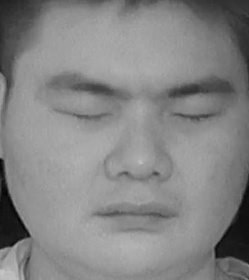blink: (55, 93, 113, 133), (169, 98, 224, 136)
mouth: (89, 190, 176, 237)
